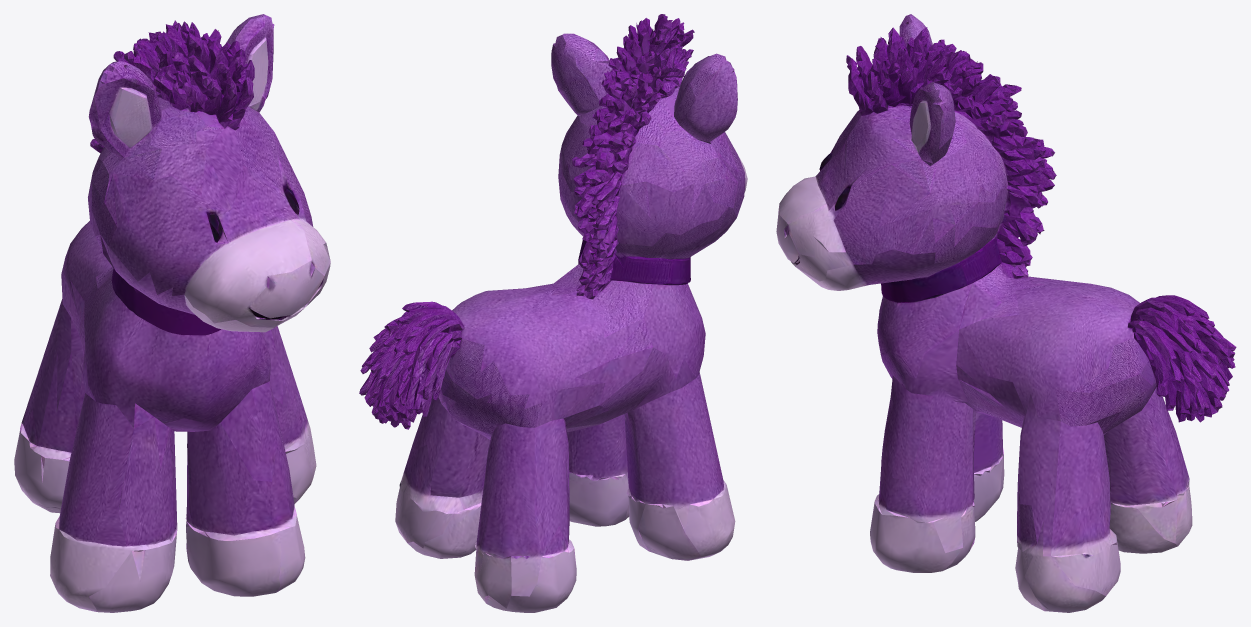
File: ginza.glb
The picture shows the model from 3 angles, left to right: view 1: azimuth 30°, elevation 25°; view 2: azimuth 150°, elevation 25°; view 3: azimuth 270°, elevation 25°; orthographic projection. The views are drawn at different scales.
Bounding box in the file's own units: 0.6644 × 1.15 × 0.958.
Materials: 1 (1 with a texture image).
